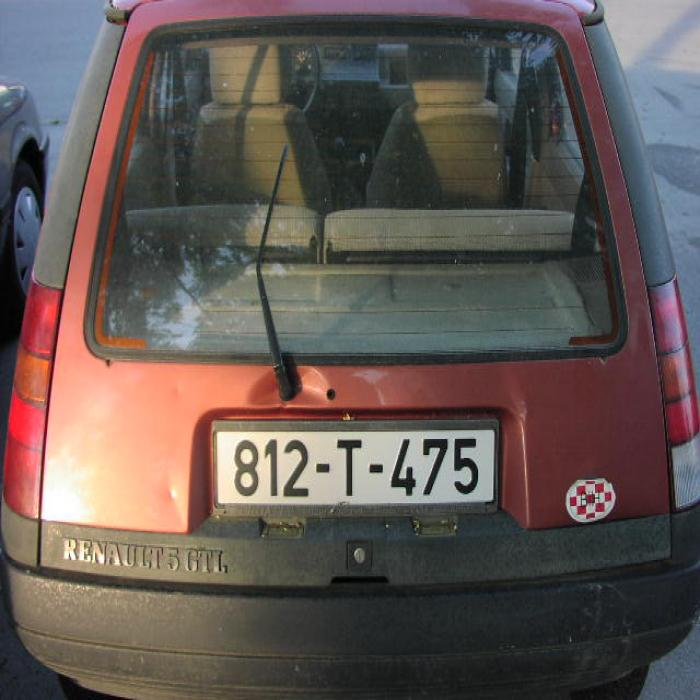number_plate: (215, 430, 494, 502)
